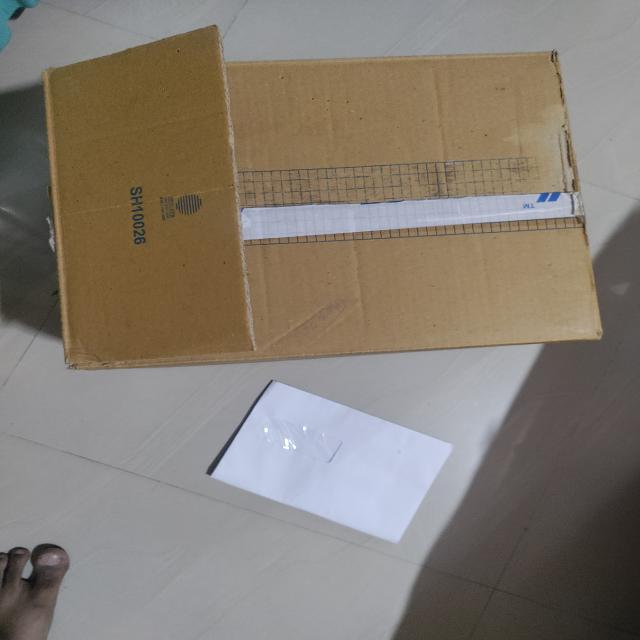paper: (38, 22, 604, 366), (208, 379, 450, 550)
